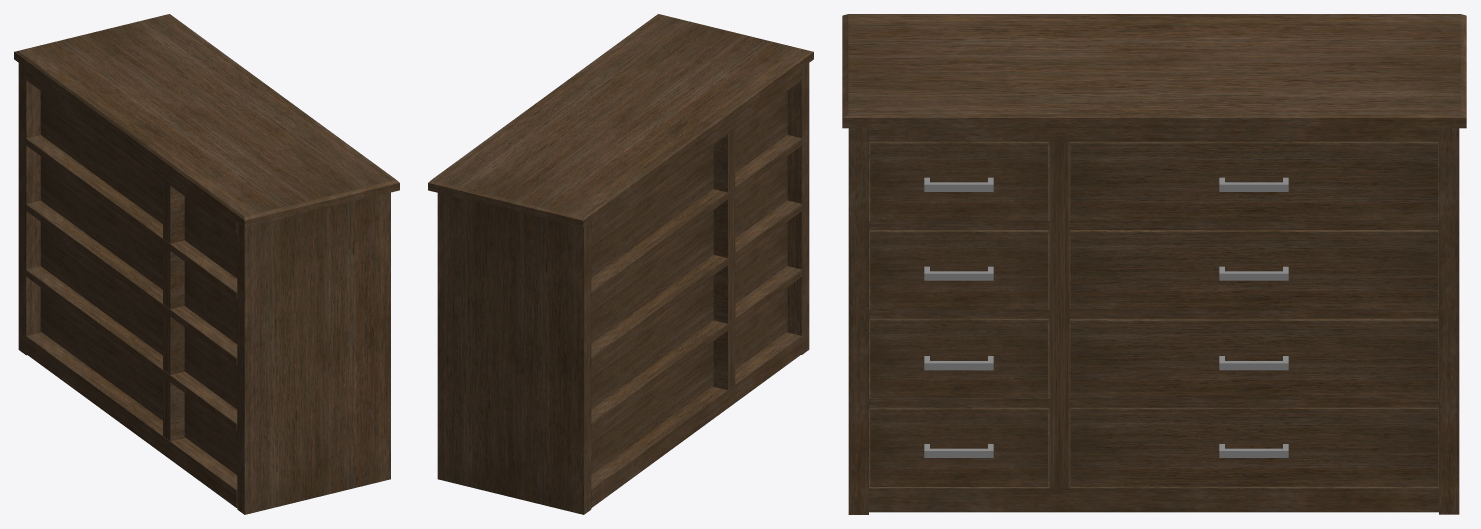
Rendered from Cabinet.FBX.
The picture shows the model from 3 angles, left to right: view 1: azimuth 30°, elevation 25°; view 2: azimuth 150°, elevation 25°; view 3: azimuth 270°, elevation 25°; orthographic projection. The views are drawn at different scales.
Parts seen in each view (by area): view 1: cabinet; view 2: cabinet; view 3: cabinet.
Boxes of the visible parts, left/top/right/bottom form: cabinet: left=14, top=14, right=399, bottom=514; cabinet: left=428, top=14, right=813, bottom=514; cabinet: left=842, top=14, right=1466, bottom=514.
Size of the model in its own units: 79.64 by 200 by 143.
2 materials, 1 textured.
